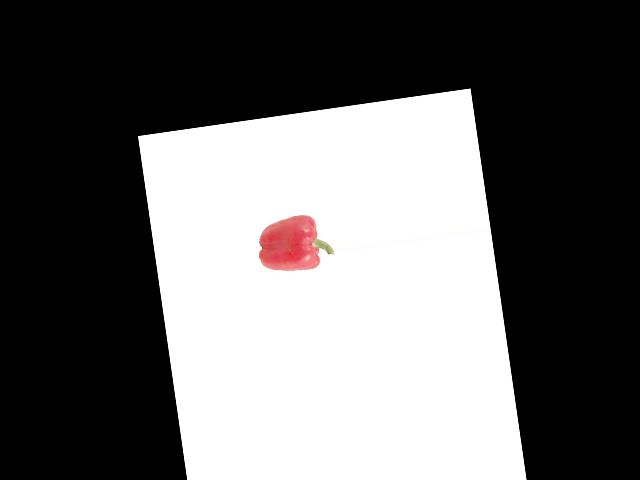bell_pepper: (252, 203, 335, 278)
